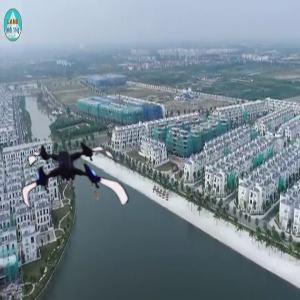drone: (16, 125, 121, 230)
